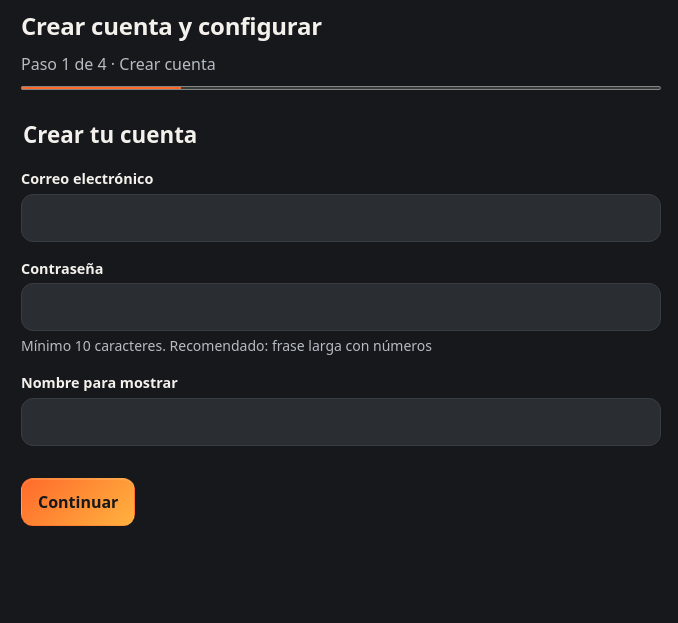
Test: OnboardingScreen › valida la cuenta antes de avanzar
What coordinates should you click on to do the following:
click the button "Continuar"
I would click on:
 (78, 502)
Its box is [21,478,135,526].
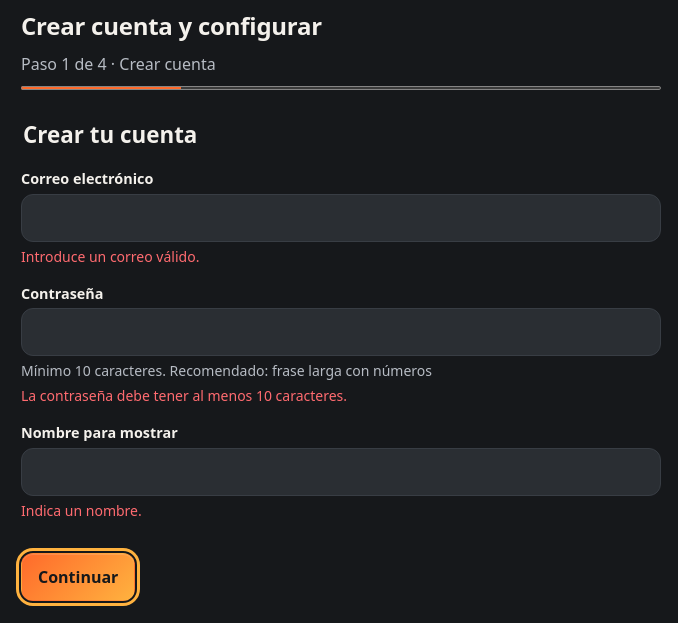
Now the text "Introduce un correo válido." is shown, box [21,247,199,266]
Now the text "La contraseña debe tener al menos 10 caracteres." is shown, box [21,386,347,405]
Now the text "Indica un nombre." is shown, box [21,501,142,520]
